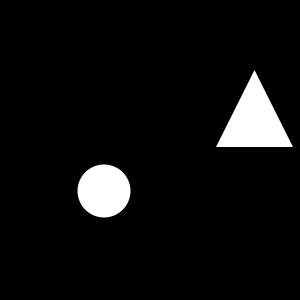rectangle: (78, 164, 130, 218)
triangle: (216, 70, 293, 147)
